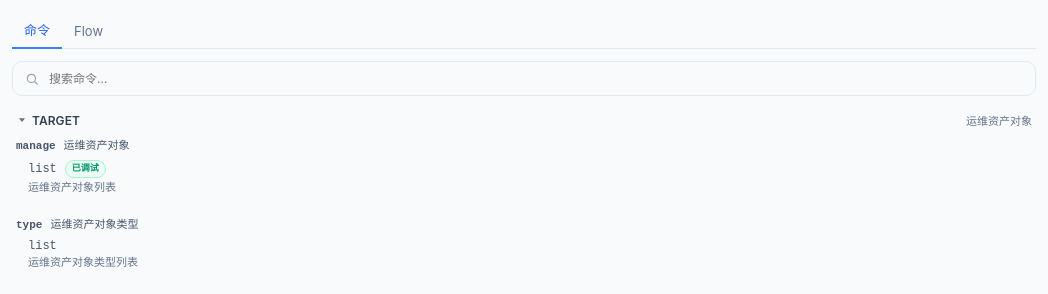
Test case: CommandTree 分组折叠/展开 › 两级分组：折叠/展开影响子资源和命令项
Check: the number of buttons with test id "tree-item" is 2, box 12,154 -> 1036,202; 12,232 -> 1036,277
Check: the text "manage" is shown, box 16,140 -> 56,152
Click the button with test id "group-header". click: {"x": 56, "y": 120}
box: 12,112 -> 1036,128
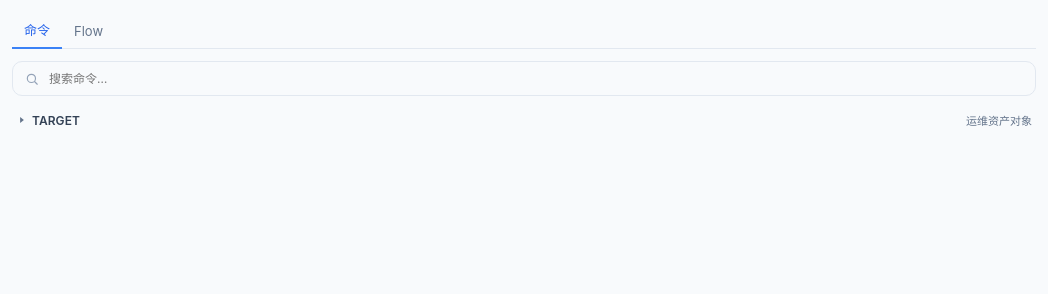
Check: no buttons with test id "tree-item" are shown
Check: the text "manage" is gone
Click the button with test id "group-header". click: {"x": 56, "y": 120}
box: 12,112 -> 1036,128
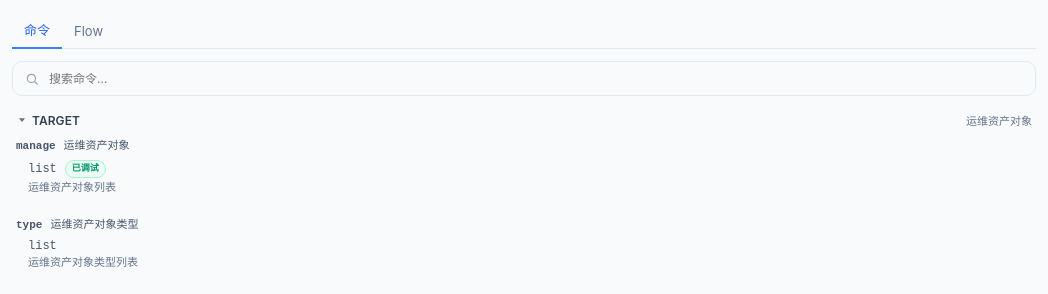
Check: the number of buttons with test id "tree-item" is 2, box 12,154 -> 1036,202; 12,232 -> 1036,277
Check: the text "manage" is shown, box 16,140 -> 56,152
